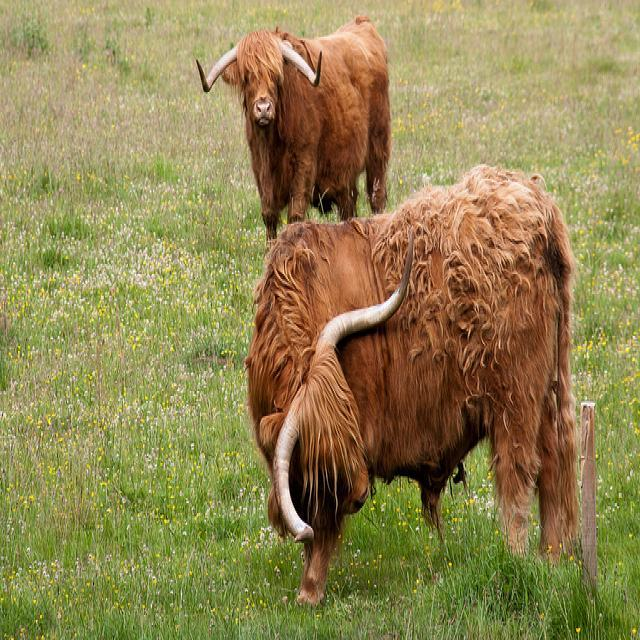cow: (245, 169, 583, 605), (196, 12, 392, 241)
